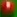red: (0, 0, 17, 17)
